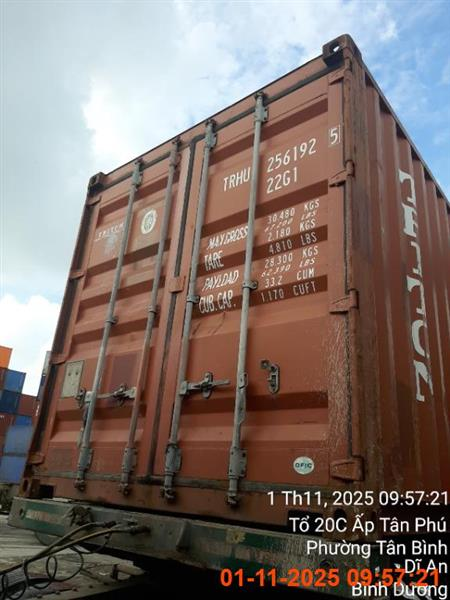broken: (7, 35, 449, 599)
